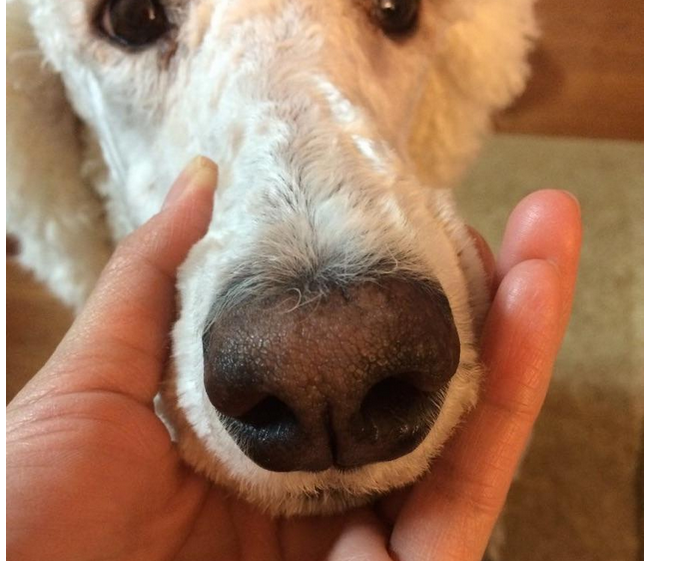nose: (204, 276, 457, 462)
